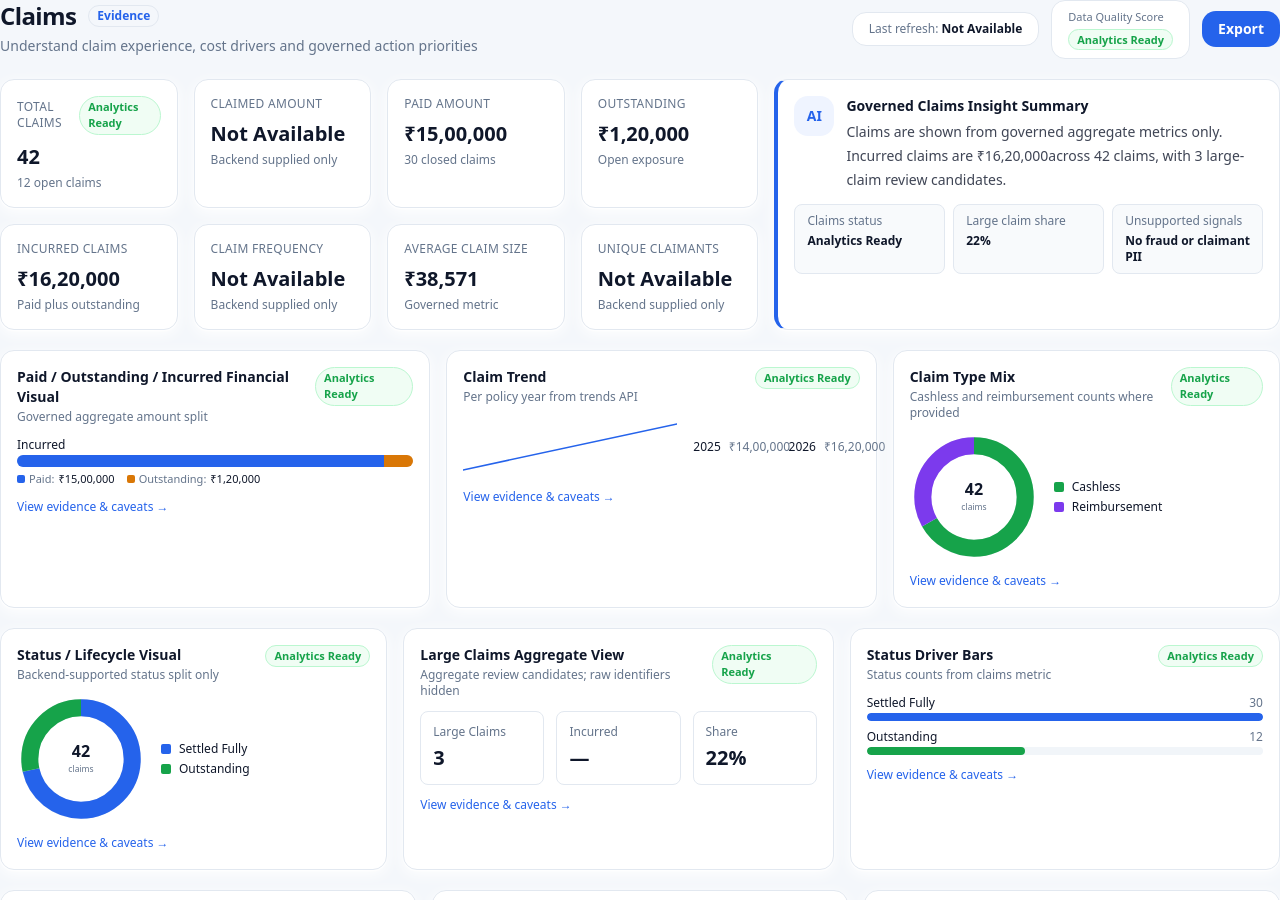
Test case: Claims dashboard › renders governed KPIs and charts
The width and height of the screenshot is (1280, 900).
Expected: the element with test id "claims-kpis" is shown, [0,78,758,330]
Expected: the element with test id "claims-kpi-count" shows "42", [17,142,40,170]
Click the button "View evidence & caveats →" below "Governed aggregate amount split": (93, 506) [17,498,168,514]
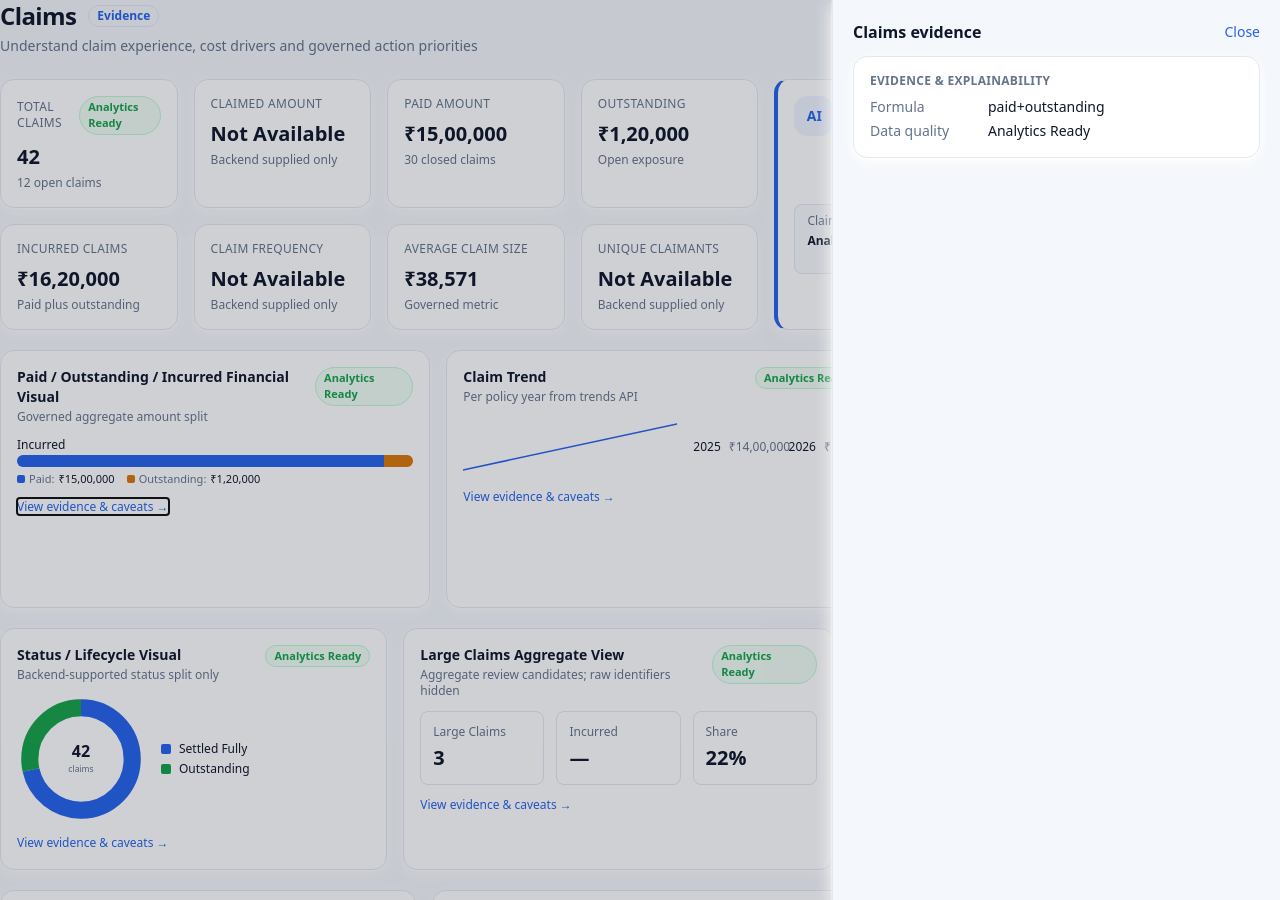
Now the element with test id "evidence-drawer" is shown
